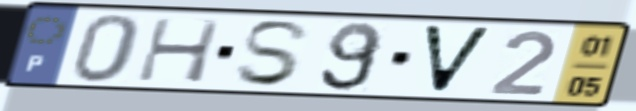0: (69, 11, 144, 85)
2: (485, 28, 559, 98)
9: (316, 19, 387, 94)
H: (133, 15, 226, 85)
S: (231, 19, 314, 89)
V: (419, 22, 498, 96)
